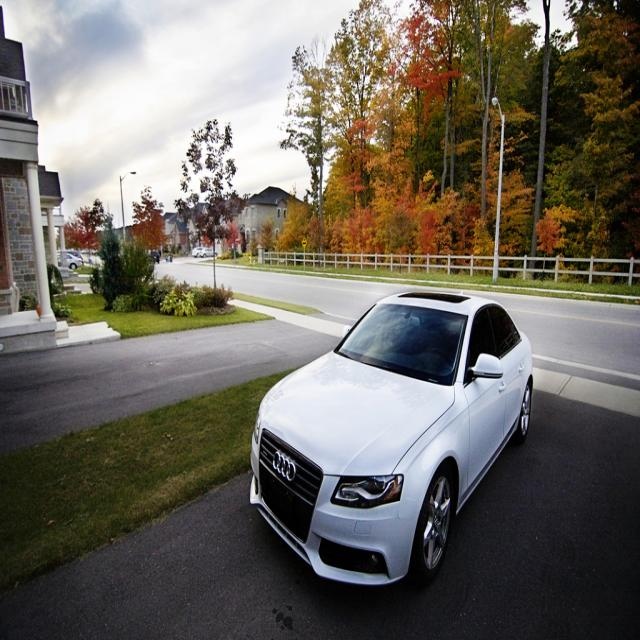Car: (247, 290, 534, 593), (56, 252, 83, 272), (87, 250, 106, 268), (146, 248, 160, 266), (191, 245, 207, 260), (198, 250, 218, 261)
